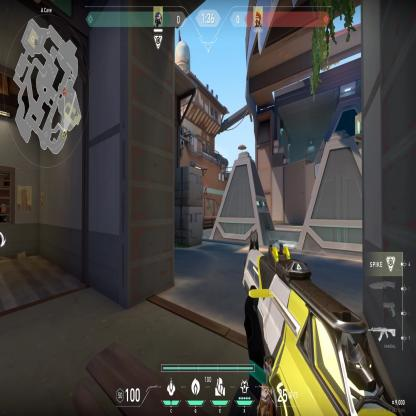enemy: (204, 182, 208, 196)
